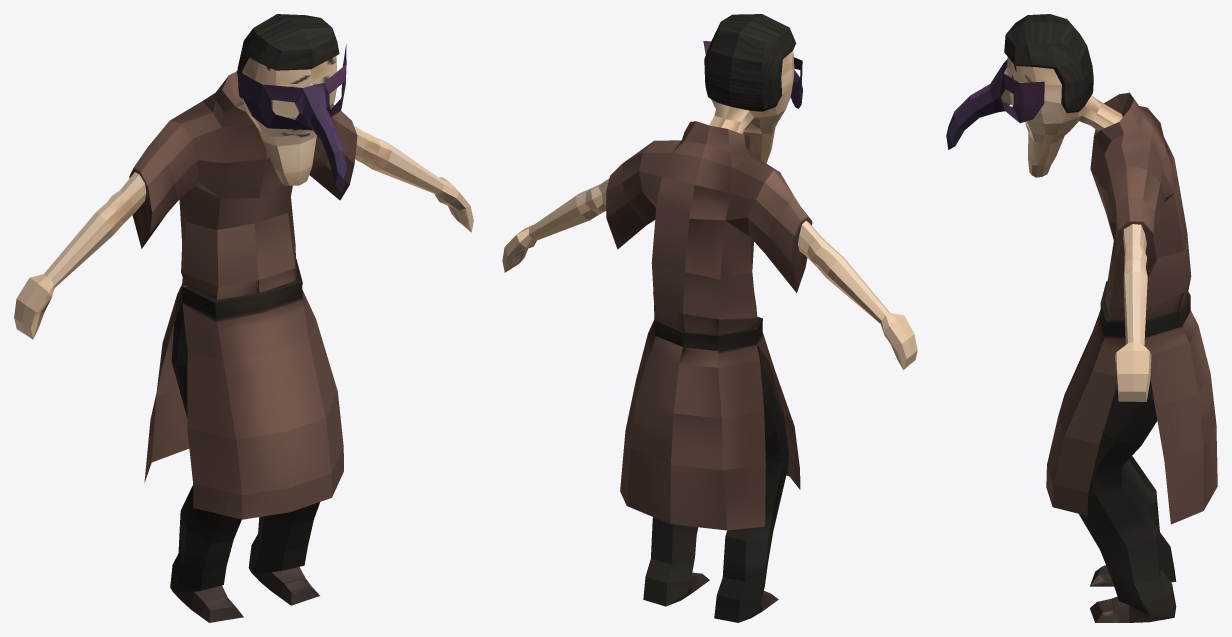
The model's file is Enemy2.FBX.
3 renders of one model, left to right at view 1: azimuth 30°, elevation 25°; view 2: azimuth 150°, elevation 25°; view 3: azimuth 270°, elevation 25°, orthographic. The views are drawn at different scales.
Parts seen in each view (by area): view 1: Box001; view 2: Box001; view 3: Box001.
Part boxes in pixels (box(x1,y1,x2,y2)): Box001: box(14, 14, 473, 622); Box001: box(502, 14, 917, 622); Box001: box(946, 14, 1217, 622).
Size of the model in its own units: 125 by 163 by 69.58.
